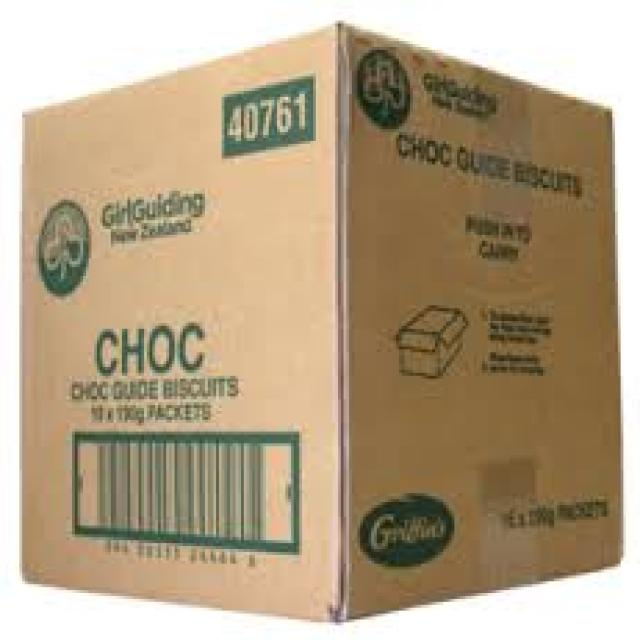cardboard: (20, 21, 624, 623)
